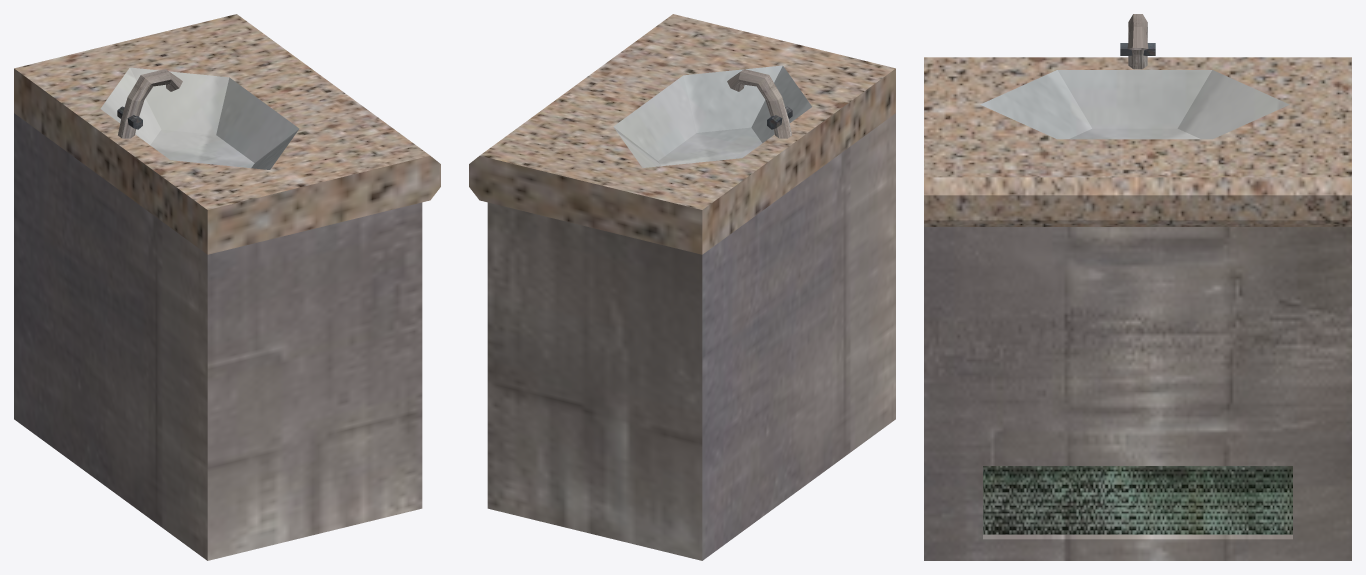
Rendered from sink_counter_top.fbx.
The picture shows the model from 3 angles, left to right: view 1: azimuth 30°, elevation 25°; view 2: azimuth 150°, elevation 25°; view 3: azimuth 270°, elevation 25°; orthographic projection. The views are drawn at different scales.
Visible parts, largest first — view 1: Cube; view 2: Cube; view 3: Cube.
Part boxes in pixels (x1=…): Cube: x1=14, y1=14, x2=440, y2=560; Cube: x1=469, y1=14, x2=895, y2=560; Cube: x1=924, y1=14, x2=1351, y2=560.
Size of the model in its own units: 62.63 by 104 by 90.
